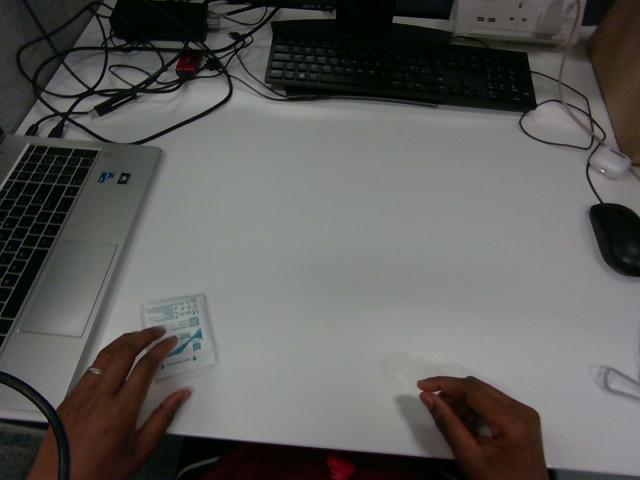gauze: (143, 294, 215, 380)
